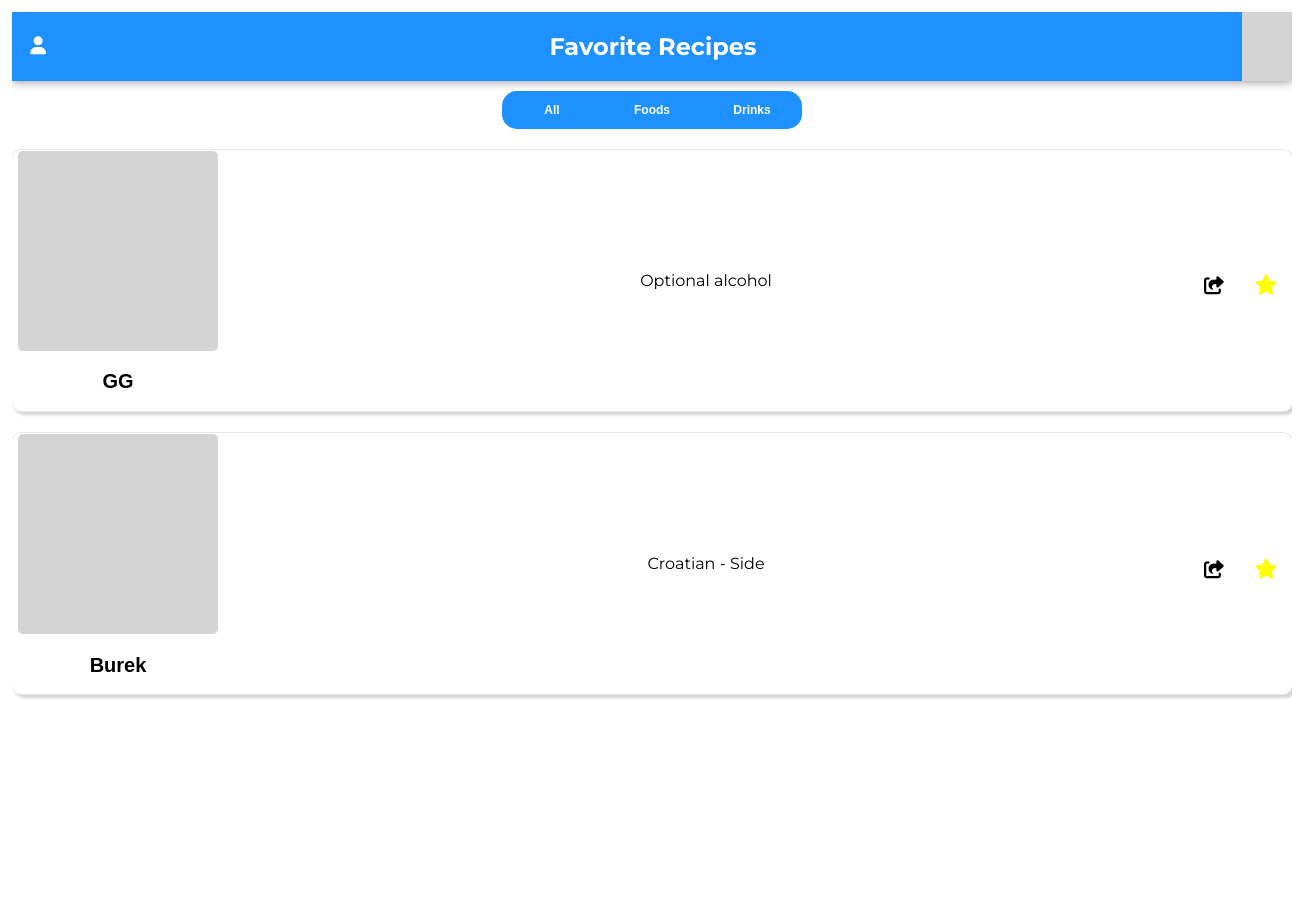
Test: Teste da página Favorite Recipes › É possível copiar o link da página de detalhes ao clicar no botão de compartilhar
Step 1. Click the button with test id "0-horizontal-share-btn" → (1214, 286), box [1188,276,1240,296]
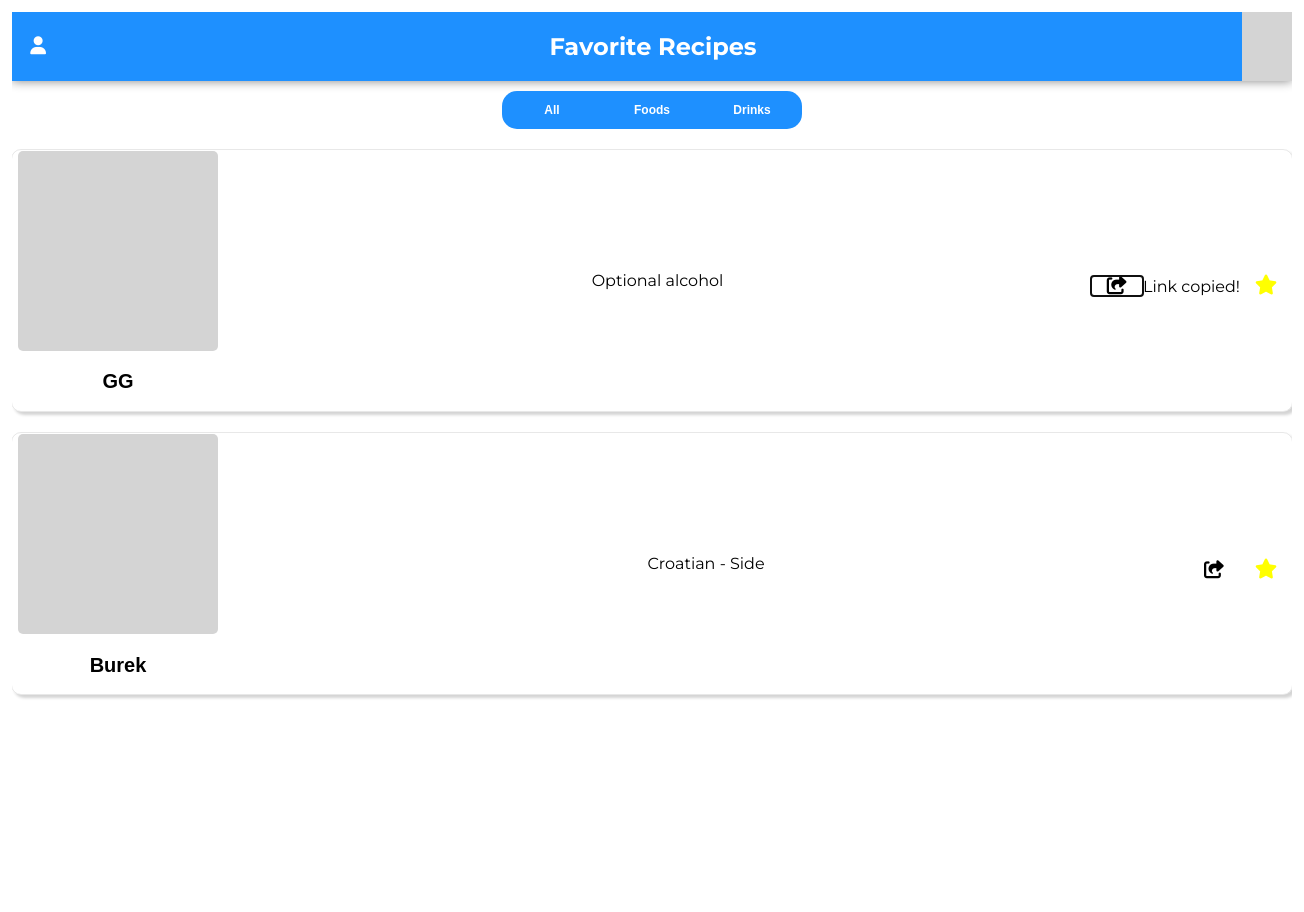
expect the text "Link copied!" is shown: met, box [1143,277,1240,296]
